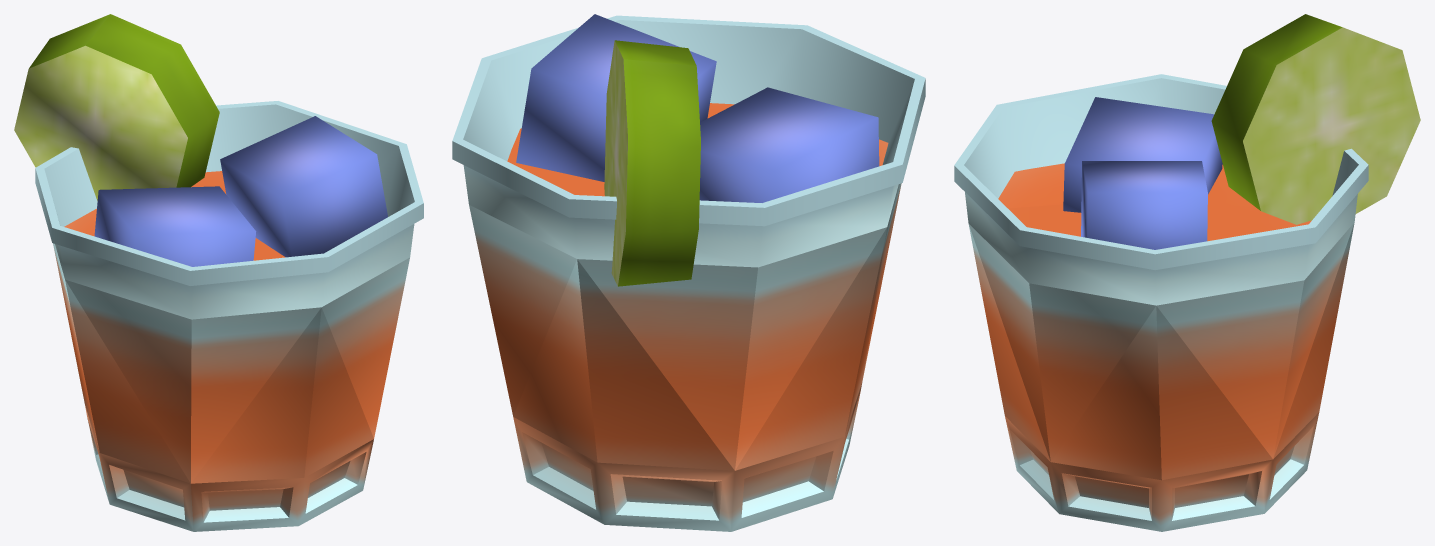
Rendered from H_LowBallDrink.fbx.
3 renders of one model, left to right at view 1: azimuth 30°, elevation 25°; view 2: azimuth 150°, elevation 25°; view 3: azimuth 270°, elevation 25°, orthographic. The views are drawn at different scales.
Visible parts, largest first — view 1: LowballGlassLiquid; view 2: LowballGlassLiquid; view 3: LowballGlassLiquid.
Part boxes in pixels (box(x1,y1,x2,y2)): LowballGlassLiquid: box(14, 14, 423, 531); LowballGlassLiquid: box(452, 14, 925, 531); LowballGlassLiquid: box(954, 14, 1420, 531).
Bounding box in the file's own units: 16.87 × 18.63 × 18.46.
